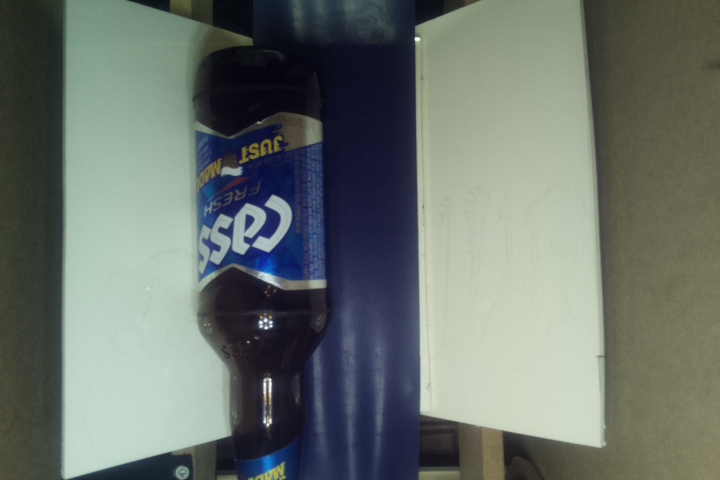makju: (191, 48, 331, 480)
